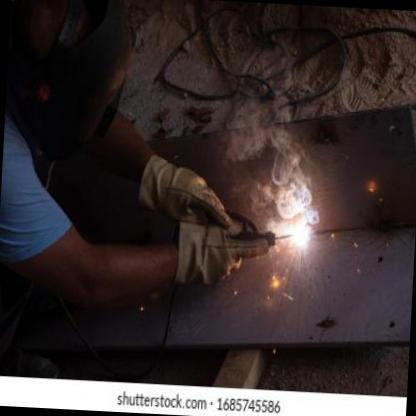Gloves: (172, 210, 271, 288), (136, 150, 233, 228)
